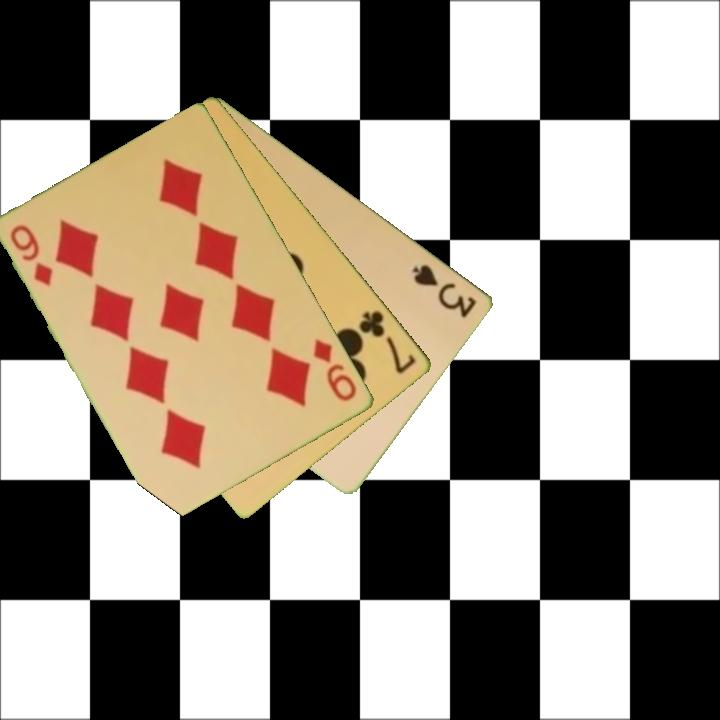3s: (409, 260, 480, 321)
7c: (356, 307, 420, 377)
9d: (310, 335, 360, 405), (7, 221, 57, 289)
